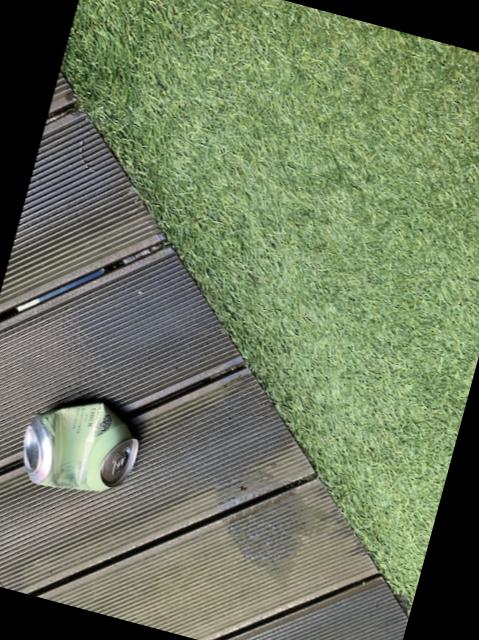metal: (23, 405, 137, 492)
